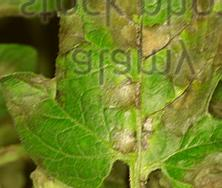Tomato leaf late blight: (1, 0, 222, 188)
